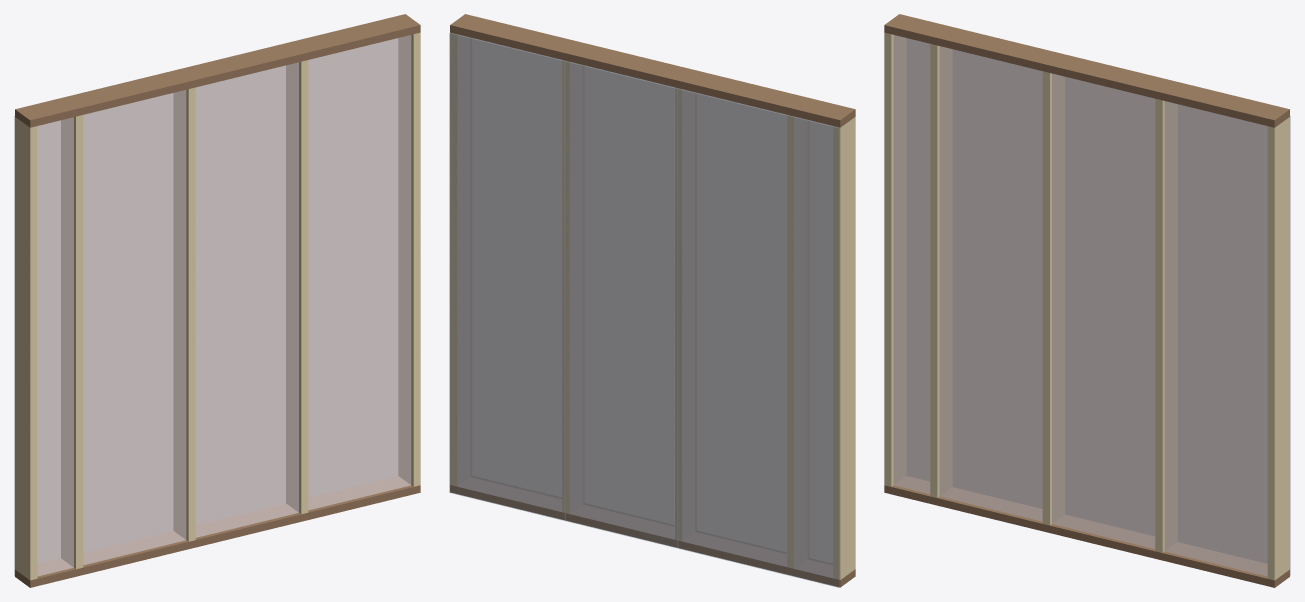
3 views of the same model, side by side, from view 1: azimuth 30°, elevation 25°; view 2: azimuth 150°, elevation 25°; view 3: azimuth 330°, elevation 25° (orthographic).
Visible parts, largest first — view 1: EX7 FF; view 2: EX7 FF; view 3: EX7 FF.
Boxes of the visible parts, x1,y1,x2,y2 form: EX7 FF: [14, 14, 420, 587]; EX7 FF: [449, 14, 855, 587]; EX7 FF: [884, 14, 1290, 587].
Size of the model in its own units: 2.08 by 2.38 by 0.149.
